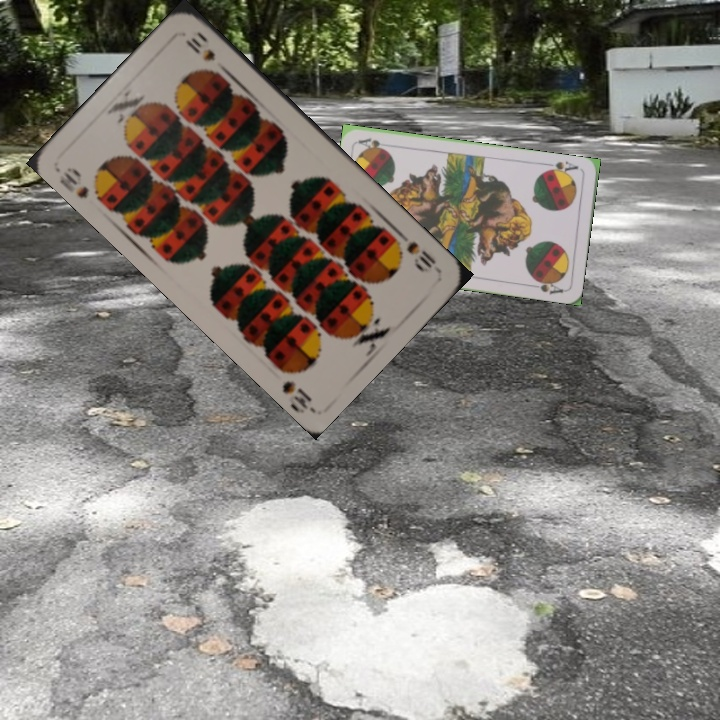S10: (55, 163, 107, 205), (402, 237, 439, 272)
SA: (542, 157, 581, 178)
